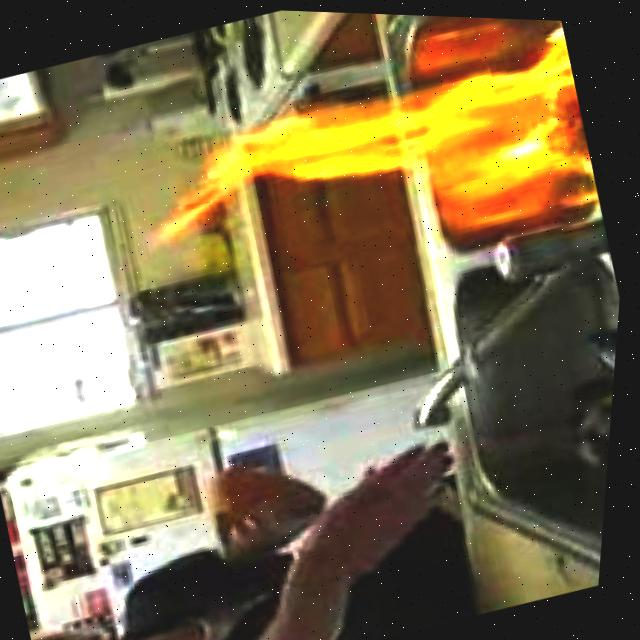Fire: (198, 23, 594, 236), (389, 29, 612, 244)
